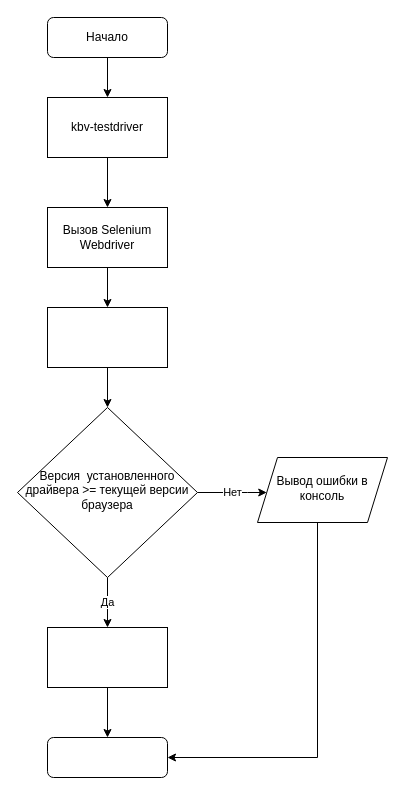
This 405x795 diagram has some shape labels left out. Here are the shapes that lost their labels. From the top down, the centre of each, then its label:
At point 107,337: "Вызов драйвера для взаимодействия с браузером".
At point 107,657: "Вызов браузера".
At point 107,757: "Конец".
